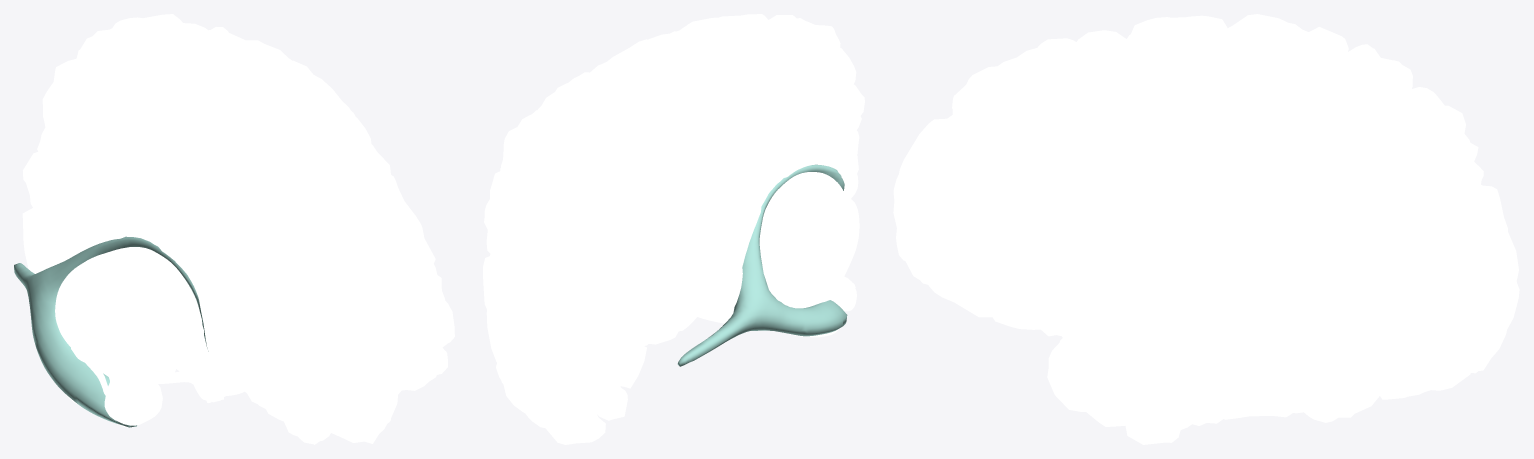
The model's file is cerebrum.glb.
3 renders of one model, left to right at view 1: azimuth 30°, elevation 25°; view 2: azimuth 150°, elevation 25°; view 3: azimuth 270°, elevation 25°, orthographic. The views are drawn at different scales.
Visible parts, largest first — view 1: Superior frontal gyrus.l, Corpus callosum, Middle frontal gyrus.l, Precuneus.l, Putamen.r, Lateral ventricle.r, Straight gyrus (Gyrus rectus).l, Lentiform nucleus.r, Paracentral gyrus and sulcus*.l, Caudate nucleus.r, Orbital gyri (Frontomarginal gyrus and sulcus*).l, Precentral gyrus.l (+19 smaller); view 2: Superior frontal gyrus.l, Corpus callosum, Precuneus.l, Angular gyrus.l, Superior parietal lobule.l, Lateral ventricle.r, Paracentral gyrus and sulcus*.l, Cuneus.l, Lingual gyrus.l, Putamen.r, Occipital pole.l, Superior occipital gyri.l (+16 smaller); view 3: Middle frontal gyrus.l, Precentral gyrus.l, Middle temporal gyrus.l, Superior frontal gyrus.l, Postcentral gyrus.l, Supramarginal gyrus.l, Superior temporal gyrus (Lateral part).l, Angular gyrus.l, Inferior temporal gyrus.l, Superior parietal lobule.l, Lateral occipital gyrus (Middle occipital gyrus*).l, Triangular part of inferior frontal gyrus.l (+17 smaller).
Part boxes in pixels (left/top/right/bottom): Superior frontal gyrus.l: left=138, top=55, right=392, bottom=387; Corpus callosum: left=28, top=213, right=305, bottom=370; Middle frontal gyrus.l: left=269, top=71, right=454, bottom=344; Precuneus.l: left=42, top=18, right=140, bottom=226; Putamen.r: left=69, top=281, right=177, bottom=380; Lateral ventricle.r: left=14, top=236, right=208, bottom=427; Straight gyrus (Gyrus rectus).l: left=234, top=360, right=369, bottom=428; Lentiform nucleus.r: left=61, top=250, right=189, bottom=371; Paracentral gyrus and sulcus*.l: left=111, top=14, right=200, bottom=112; Caudate nucleus.r: left=55, top=247, right=210, bottom=396; Orbital gyri (Frontomarginal gyrus and sulcus*).l: left=351, top=326, right=447, bottom=411; Precentral gyrus.l: left=196, top=39, right=403, bottom=199; Superior frontal gyrus.l: left=676, top=14, right=864, bottom=160; Corpus callosum: left=659, top=143, right=858, bottom=323; Precuneus.l: left=582, top=105, right=685, bottom=311; Angular gyrus.l: left=486, top=125, right=586, bottom=286; Superior parietal lobule.l: left=549, top=105, right=631, bottom=262; Lateral ventricle.r: left=677, top=164, right=847, bottom=366; Paracentral gyrus and sulcus*.l: left=602, top=47, right=702, bottom=150; Cuneus.l: left=537, top=280, right=647, bottom=383; Lingual gyrus.l: left=565, top=323, right=655, bottom=420; Putamen.r: left=803, top=197, right=859, bottom=300; Occipital pole.l: left=512, top=337, right=605, bottom=444; Superior occipital gyri.l: left=514, top=236, right=606, bottom=370; Middle frontal gyrus.l: left=902, top=76, right=1217, bottom=289; Precentral gyrus.l: left=1099, top=24, right=1281, bottom=284; Middle temporal gyrus.l: left=1082, top=266, right=1429, bottom=415; Superior frontal gyrus.l: left=893, top=15, right=1227, bottom=200; Postcentral gyrus.l: left=1156, top=34, right=1330, bottom=266; Supramarginal gyrus.l: left=1212, top=136, right=1382, bottom=297; Superior temporal gyrus (Lateral part).l: left=1056, top=274, right=1339, bottom=382; Angular gyrus.l: left=1347, top=134, right=1491, bottom=296; Inferior temporal gyrus.l: left=1110, top=326, right=1420, bottom=444; Superior parietal lobule.l: left=1327, top=48, right=1478, bottom=164; Lateral occipital gyrus (Middle occipital gyrus*).l: left=1409, top=212, right=1496, bottom=363; Triangular part of inferior frontal gyrus.l: left=1011, top=193, right=1083, bottom=311.
Size of the model in its own units: 0.1065 by 0.1178 by 0.1807.
